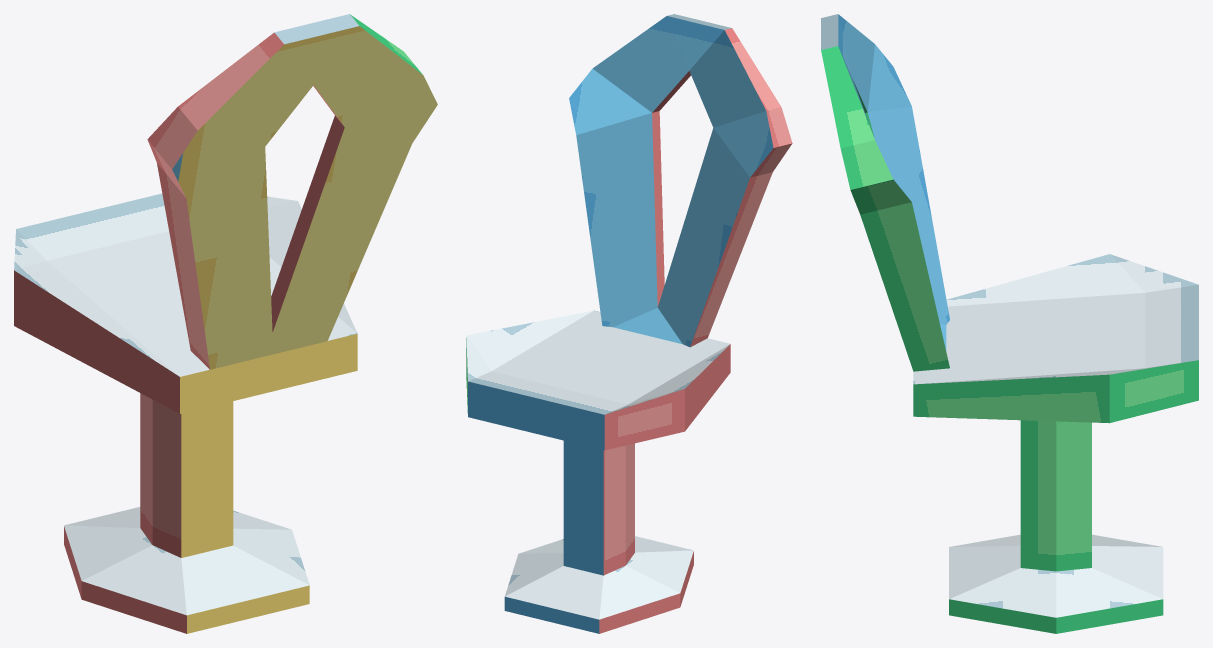
Rendered from cockpit_chair.obj.
The picture shows the model from 3 angles, left to right: view 1: azimuth 30°, elevation 25°; view 2: azimuth 150°, elevation 25°; view 3: azimuth 270°, elevation 25°; orthographic projection. The views are drawn at different scales.
Parts seen in each view (by area): view 1: back, seat, leg; view 2: back, seat, leg; view 3: seat, leg, back.
Boxes of the visible parts, x1=… form: back: x1=147, y1=14, x2=437, y2=369; seat: x1=14, y1=193, x2=357, y2=413; leg: x1=64, y1=393, x2=309, y2=633; back: x1=569, y1=14, x2=792, y2=347; seat: x1=466, y1=310, x2=730, y2=450; leg: x1=504, y1=440, x2=693, y2=633; seat: x1=913, y1=254, x2=1198, y2=423; leg: x1=949, y1=420, x2=1163, y2=633; back: x1=821, y1=14, x2=949, y2=371.
Bounding box in the file's own units: 0.5 × 1.08 × 0.6619.
Materials: 1 (1 with a texture image).
